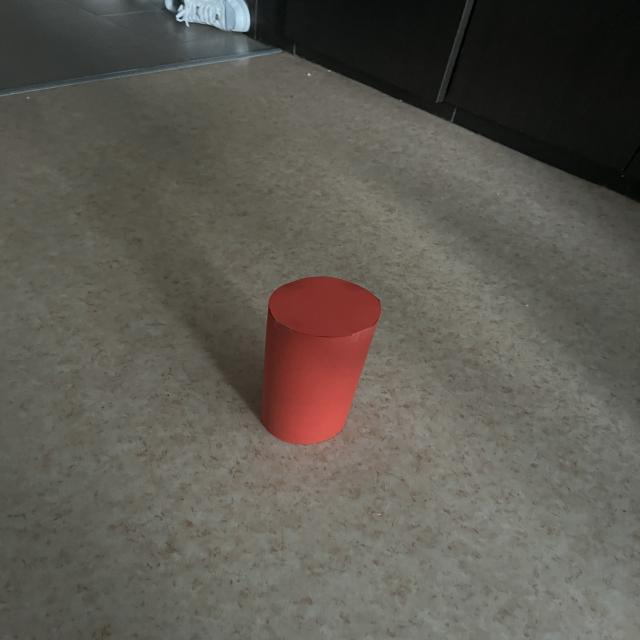przeszkoda: (261, 277, 381, 443)
